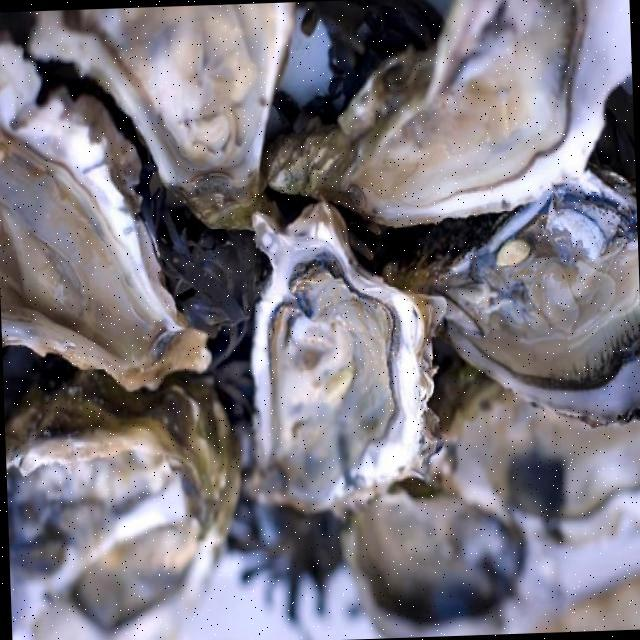Oyster-Open: (262, 0, 632, 238), (0, 23, 220, 402), (376, 126, 640, 436), (234, 189, 461, 531), (18, 2, 311, 239), (5, 351, 243, 640), (420, 350, 640, 558), (334, 473, 579, 638)
